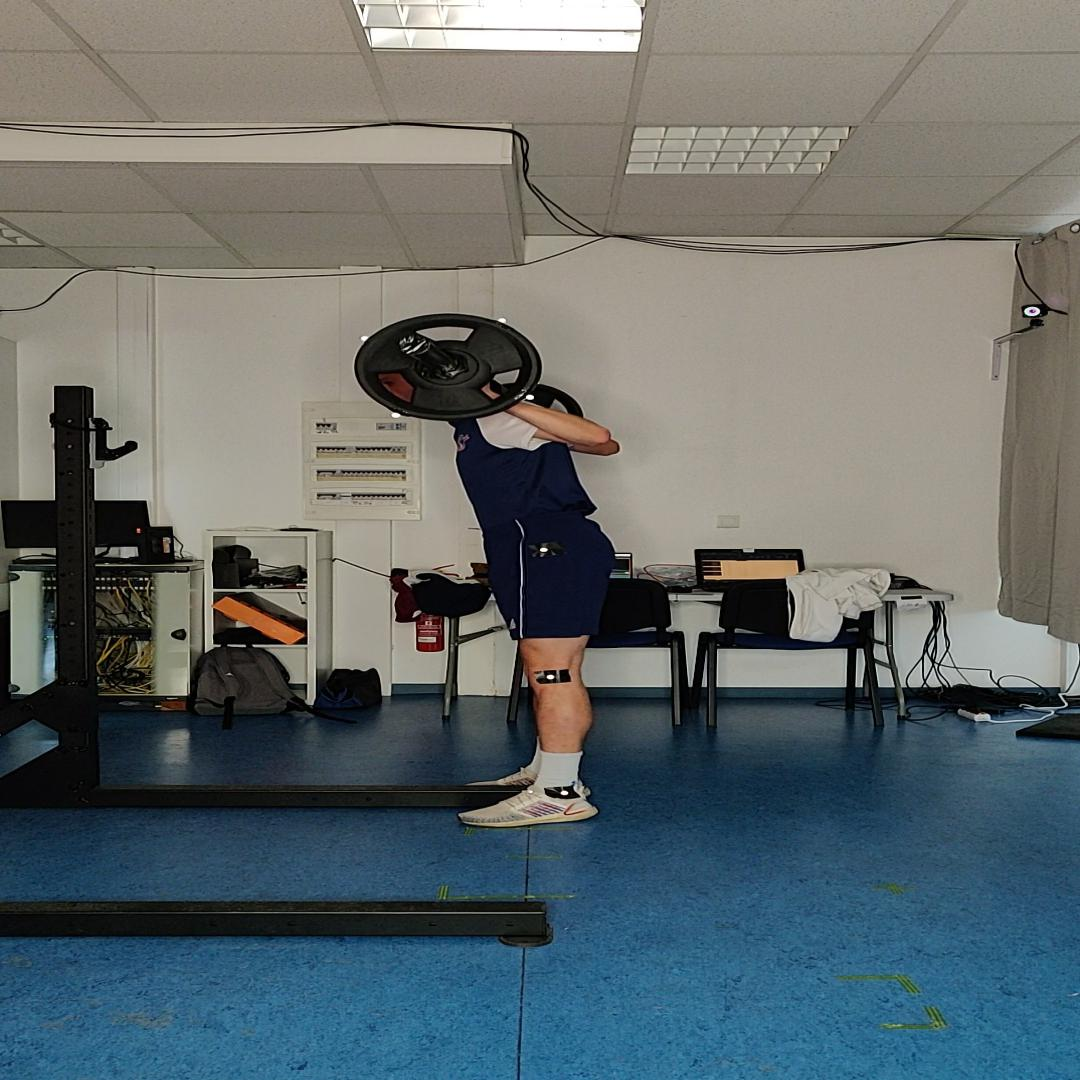Bar: (399, 334, 431, 355)
Barbell: (355, 314, 543, 422)
